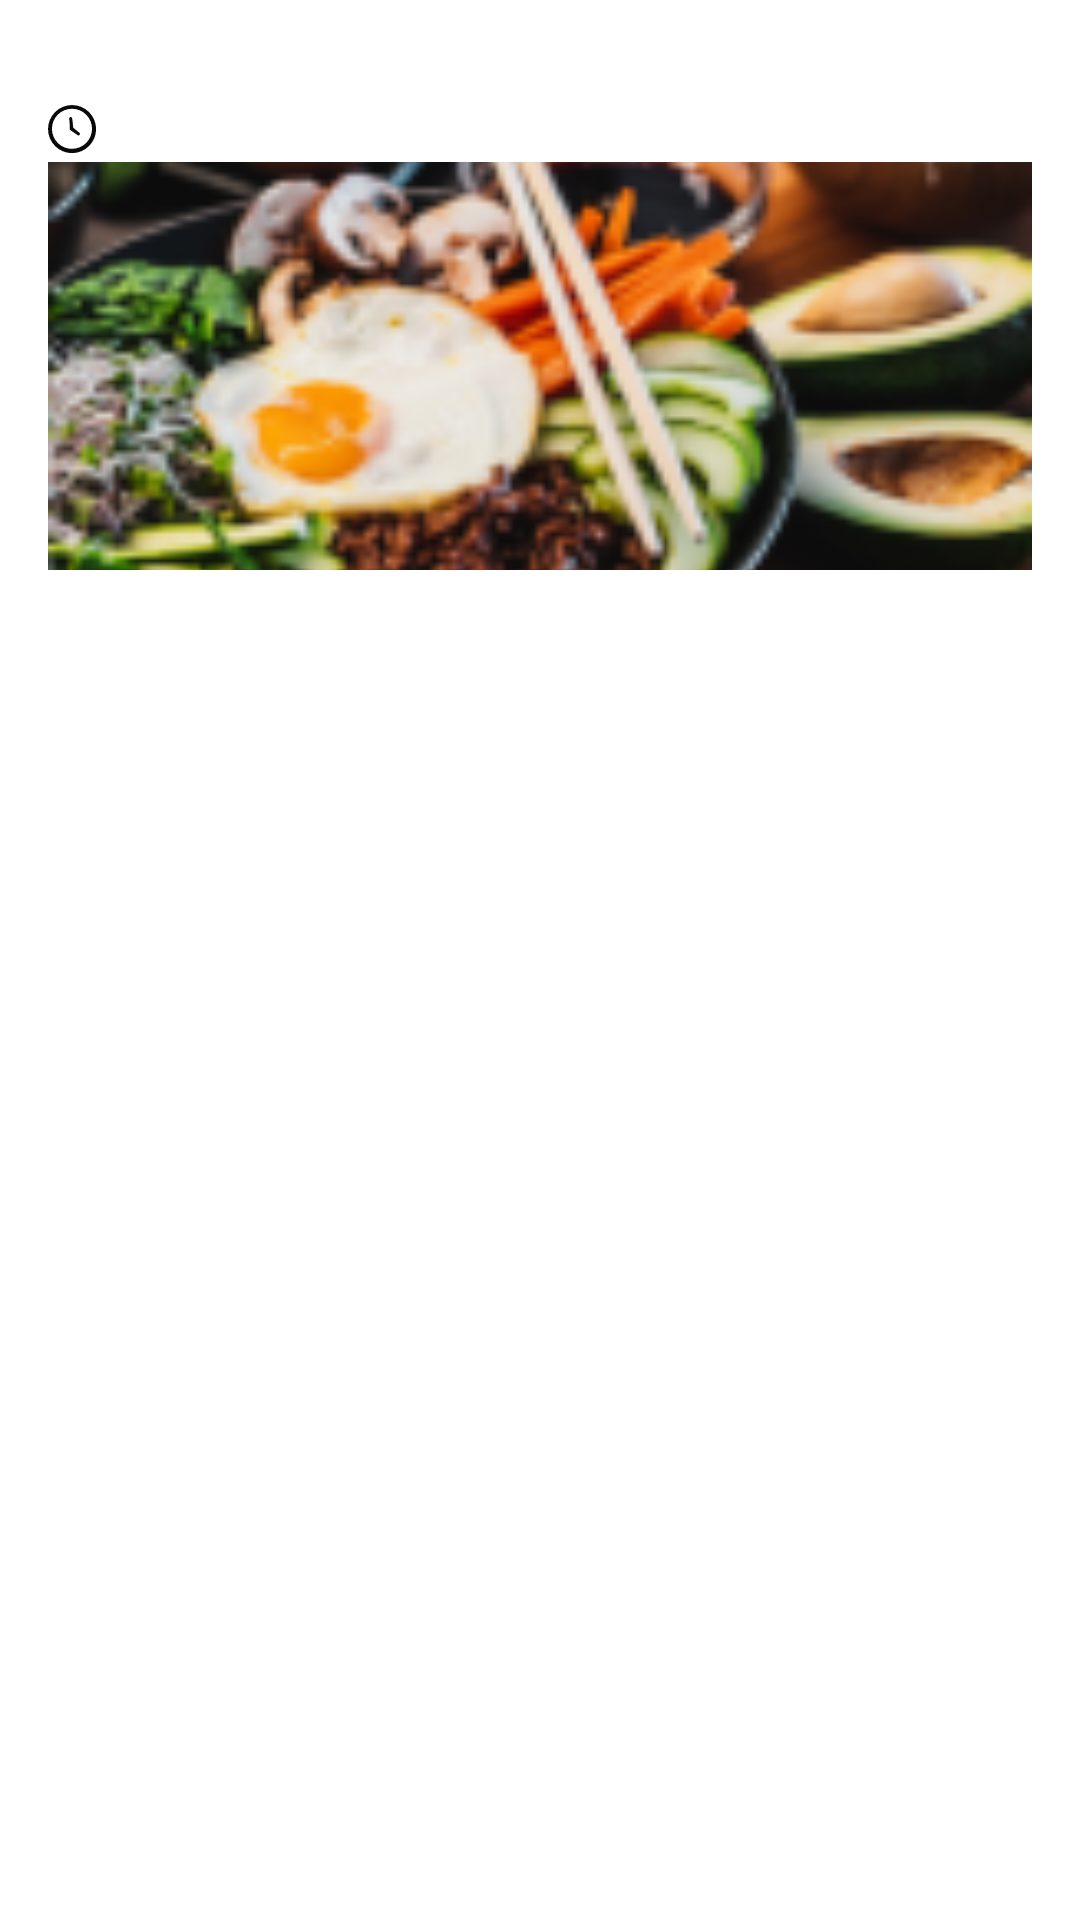

Where to tap for icons on this 1080w x 1920h app screen, as (x,y):
clock: (72,129)
